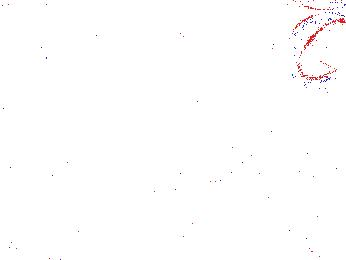moon jellyfish: (145, 53, 268, 179), (285, 12, 346, 84), (23, 26, 80, 94), (1, 17, 52, 82)
